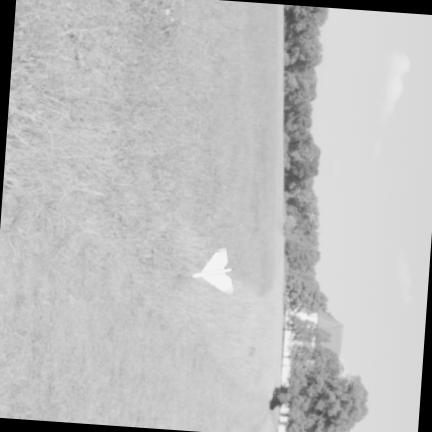Shahed: (191, 248, 231, 292)
